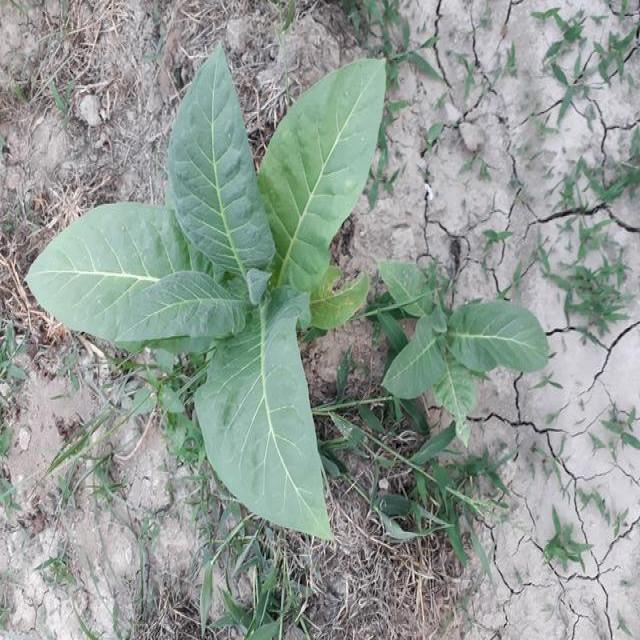crop: (24, 36, 392, 536)
